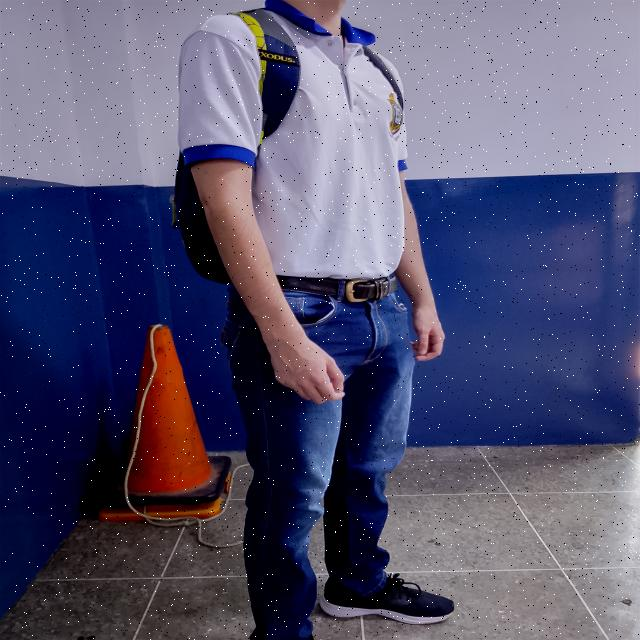pantalon_oscuro: (218, 284, 417, 640)
uniforme_superior: (177, 0, 409, 280)
